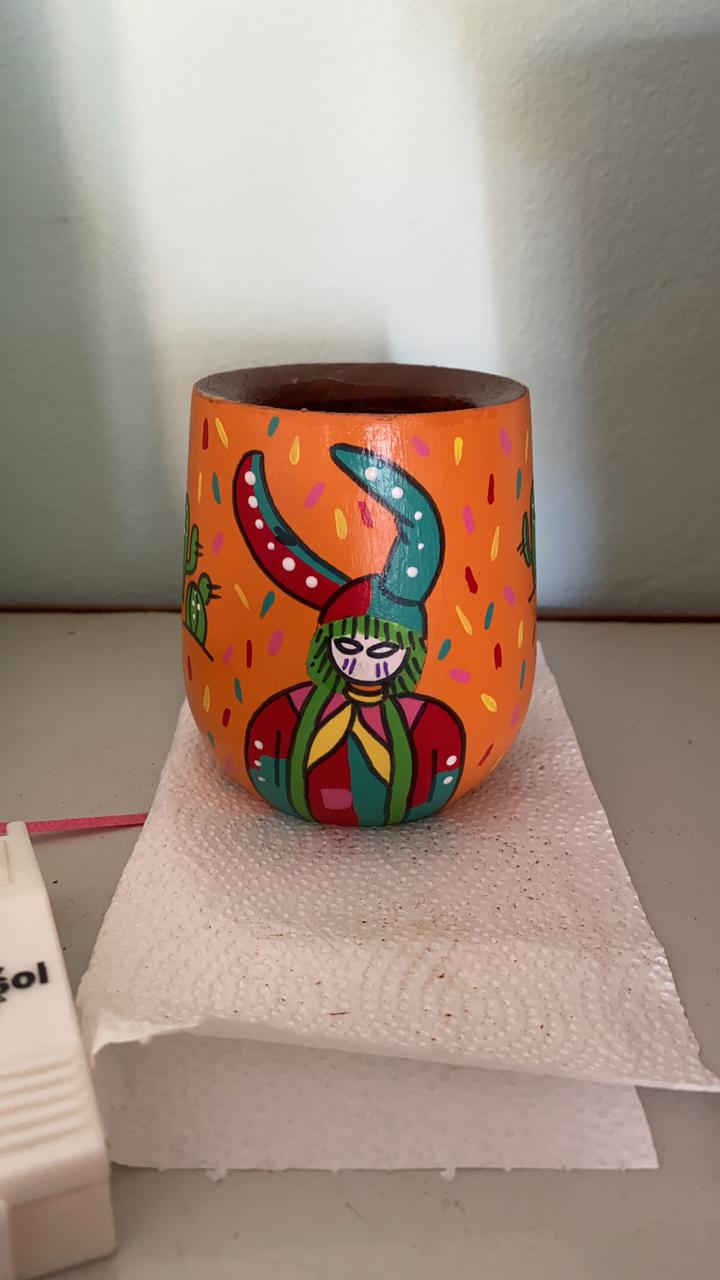madera: (161, 346, 581, 842)
mate: (137, 317, 606, 842)
